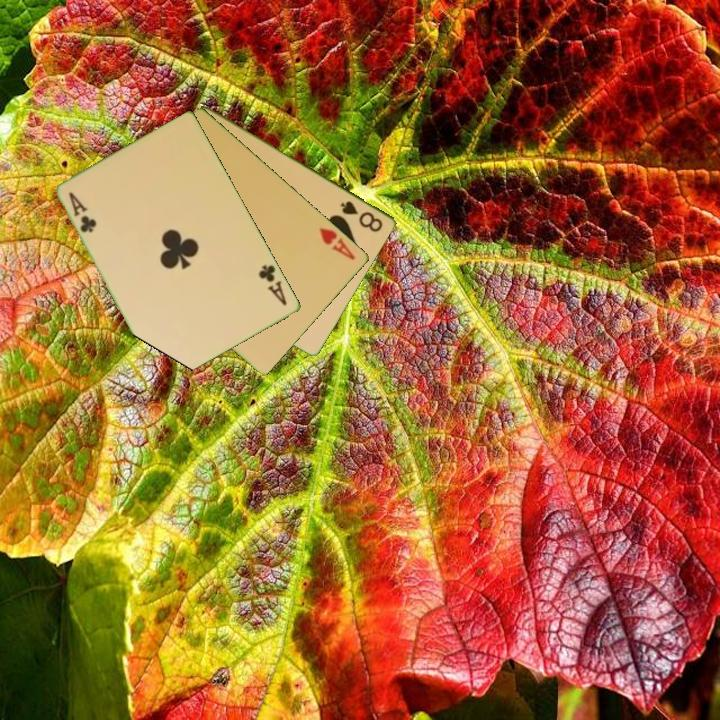8s: (337, 197, 386, 235)
Ac: (255, 261, 290, 309), (65, 188, 100, 236)
Ah: (316, 224, 359, 263)
